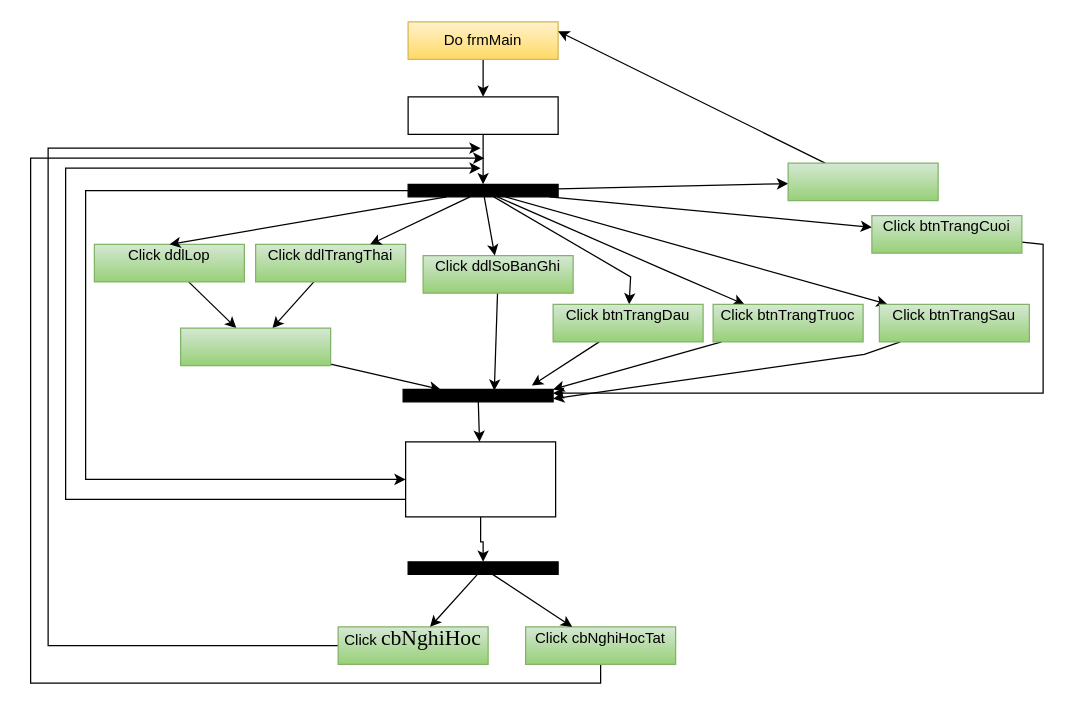
This 1075x715 diagram has some shape labels left out. Here are the shapes that lost their labels. From the top down, the centre of each, then its label:
At pixel 482 115: "Do frmDiemDanhHS".
At pixel 862 181: "Click btnThoat".
At pixel 255 346: "Click btnTimKiem".
At pixel 480 479: "dgvtbcHocSinh".
